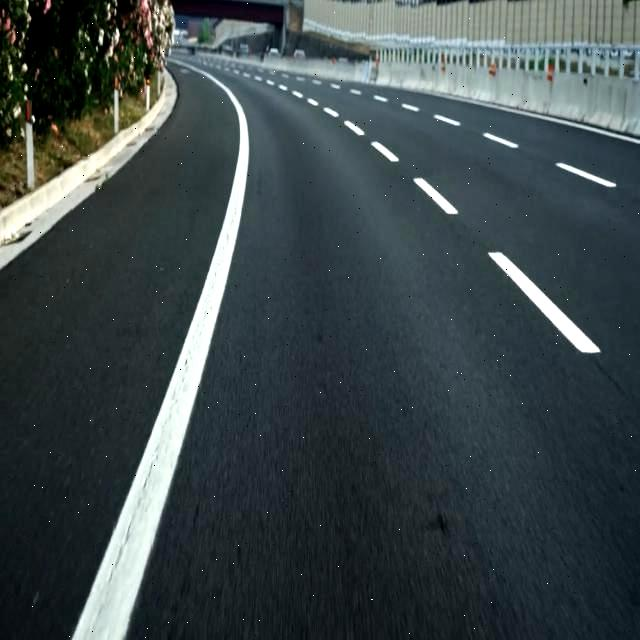lane: (72, 65, 249, 639), (489, 252, 600, 353), (414, 178, 458, 215), (556, 163, 616, 188), (482, 132, 519, 148), (371, 141, 399, 162)
road: (127, 70, 640, 639), (1, 65, 238, 639)
